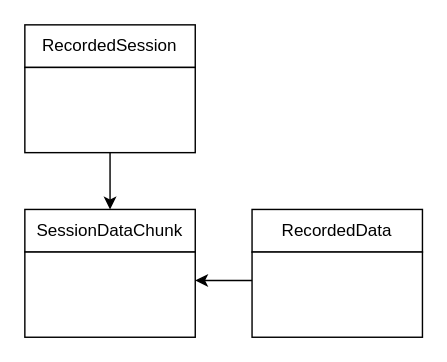
Some shapes in this 447 by 362 pixel diagram are drawn without their labels. Here are the shapes that lost their labels. From the top down, the centre of each, then its label:
At (x=109, y=109): "- SessionId - IsRecording - StartTimestamp - EndTimestamp".
At (x=336, y=294): "- ActorId - Timestamp - Key - Value".
